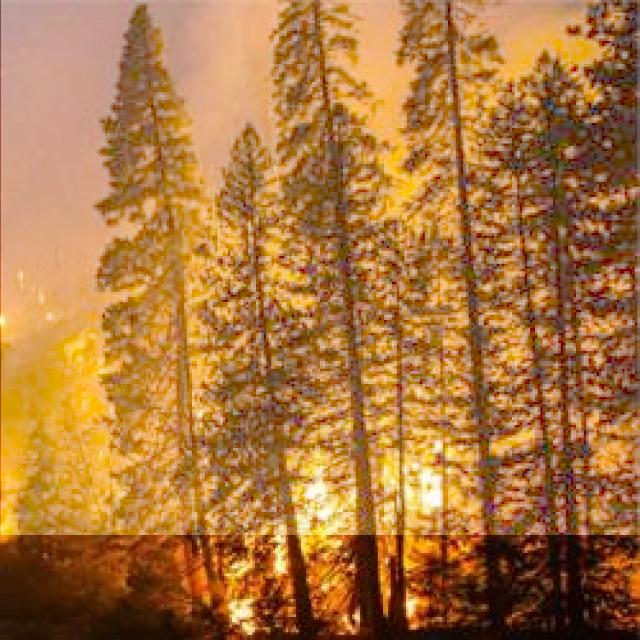Fire: (218, 418, 456, 640)
Smoke: (1, 0, 640, 535)
